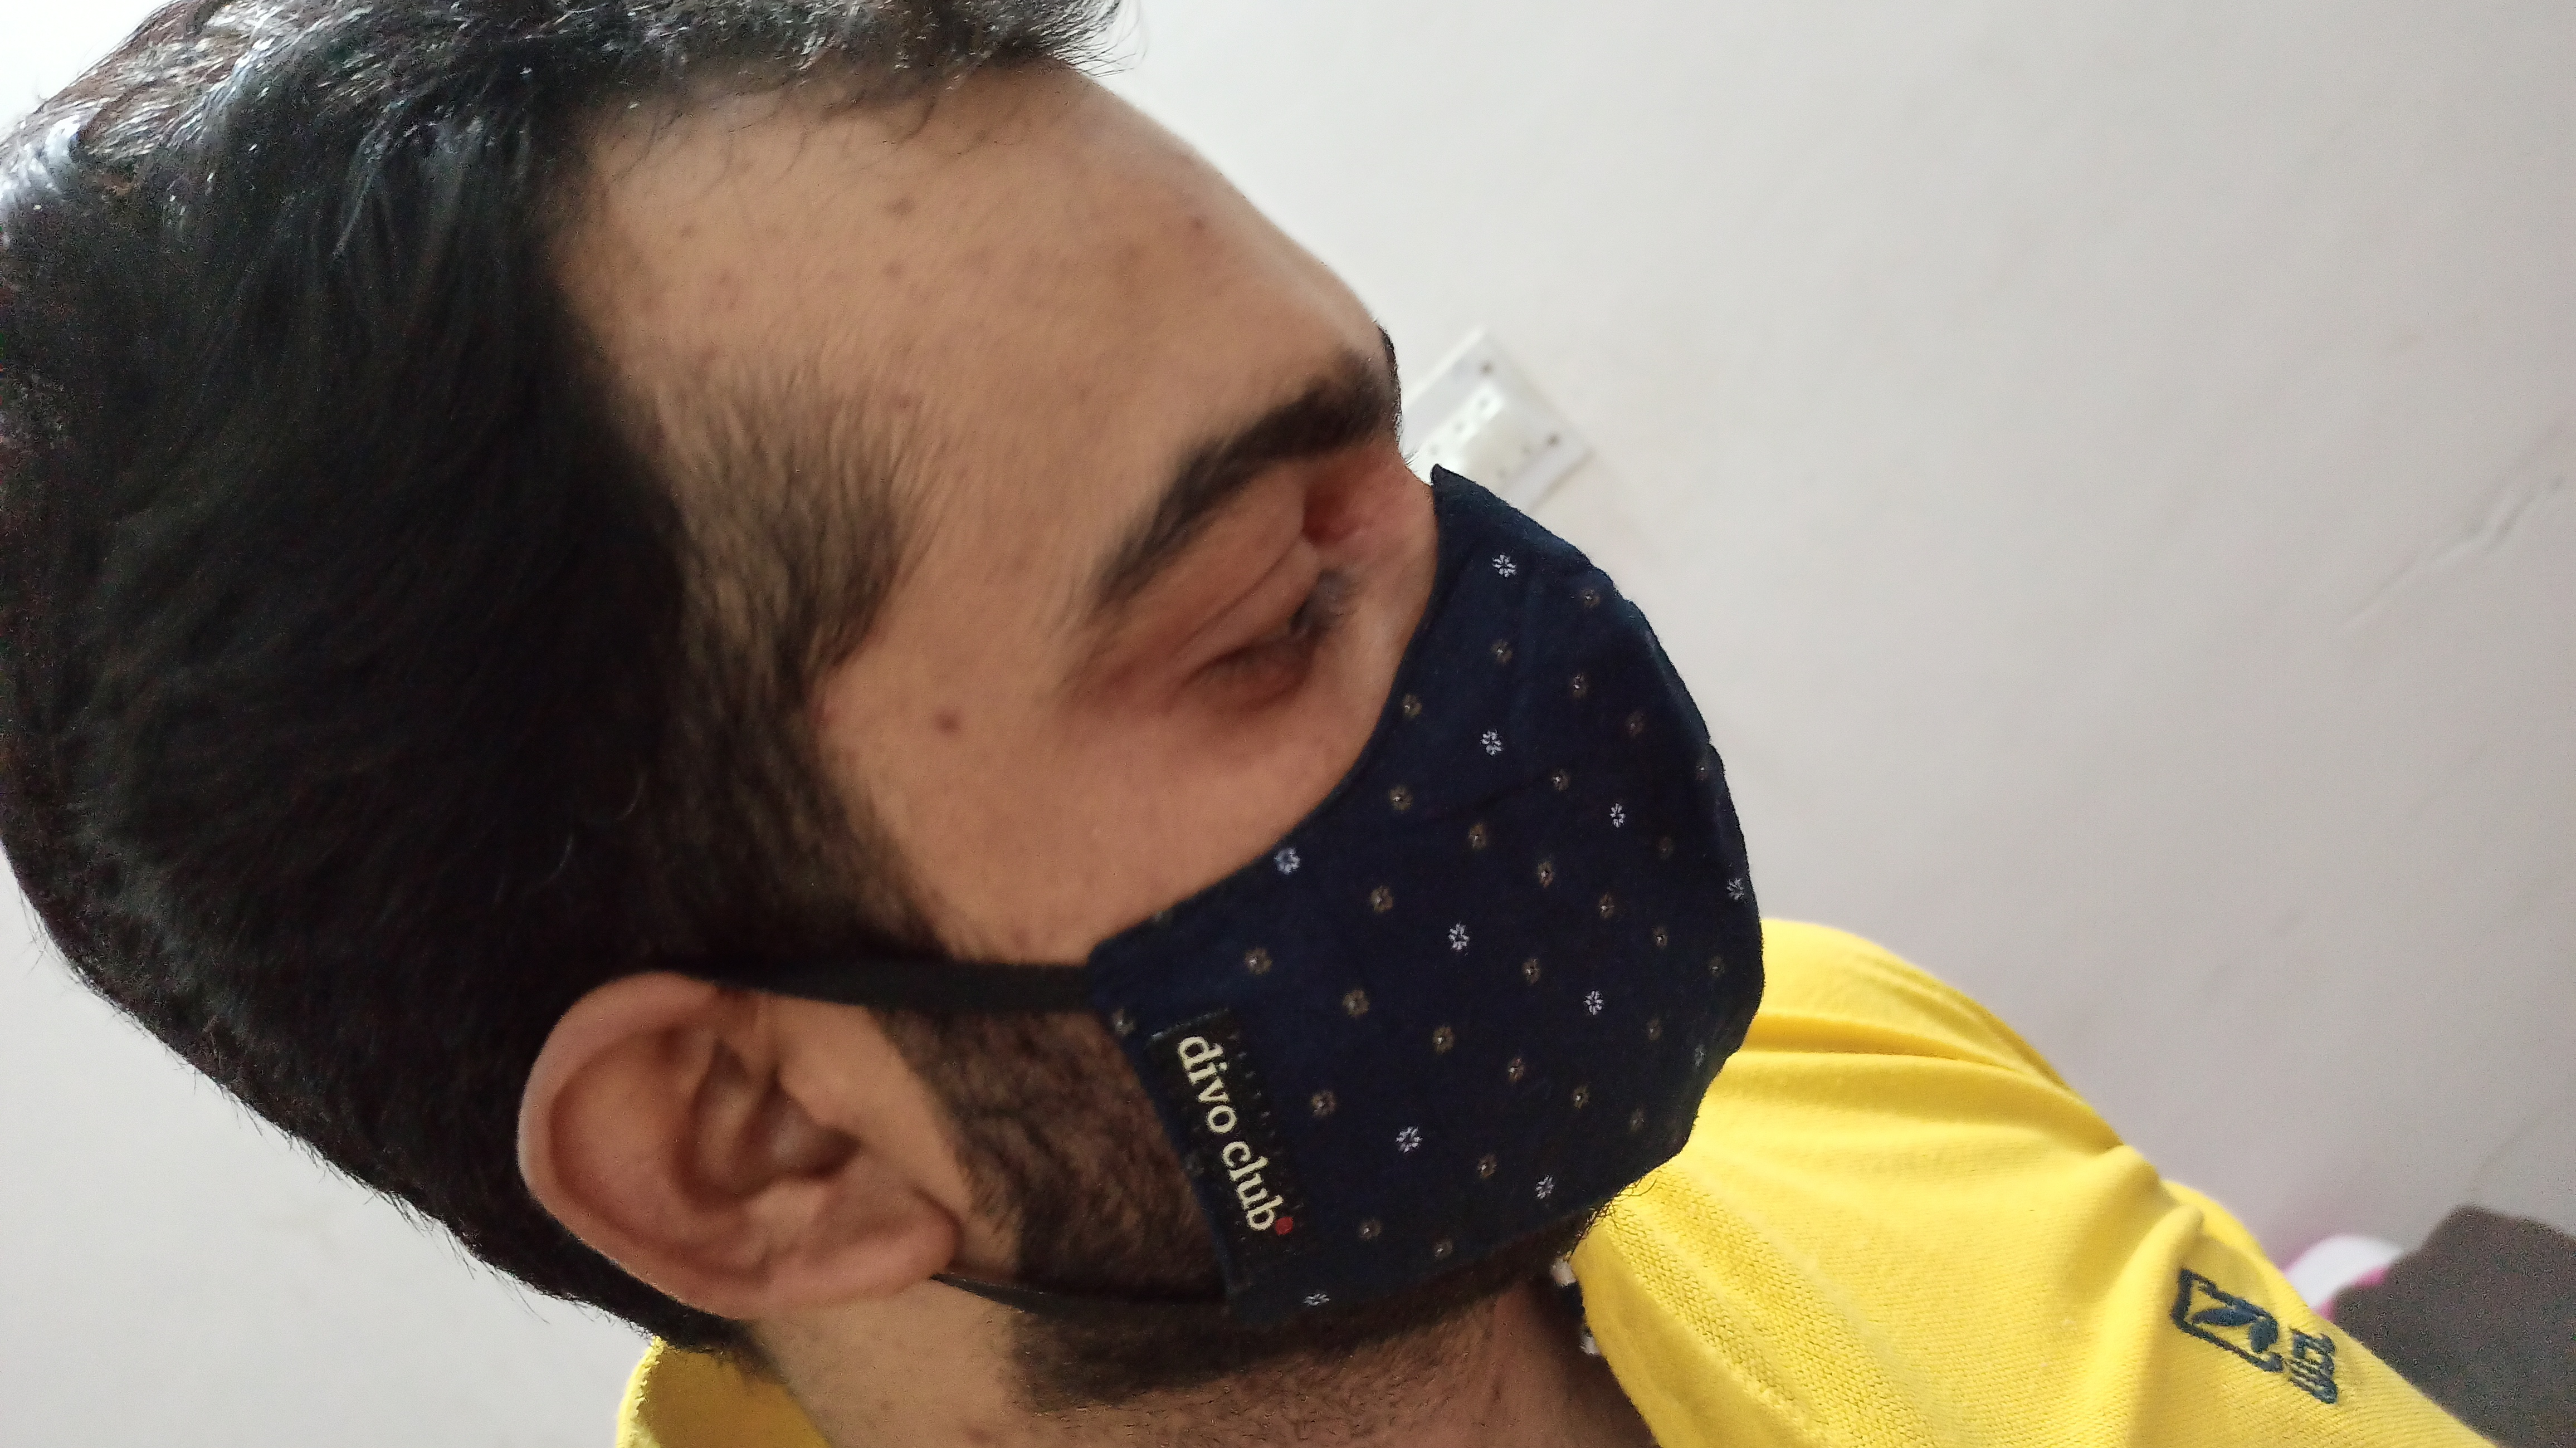Mask: (648, 435, 1773, 1425)
